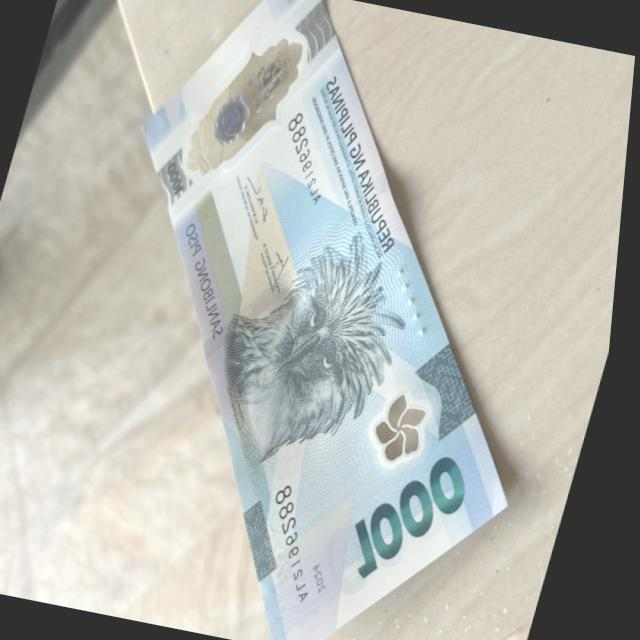clear_window: (179, 16, 311, 197)
eagle: (211, 238, 402, 471)
sampaguita: (371, 389, 443, 468)
